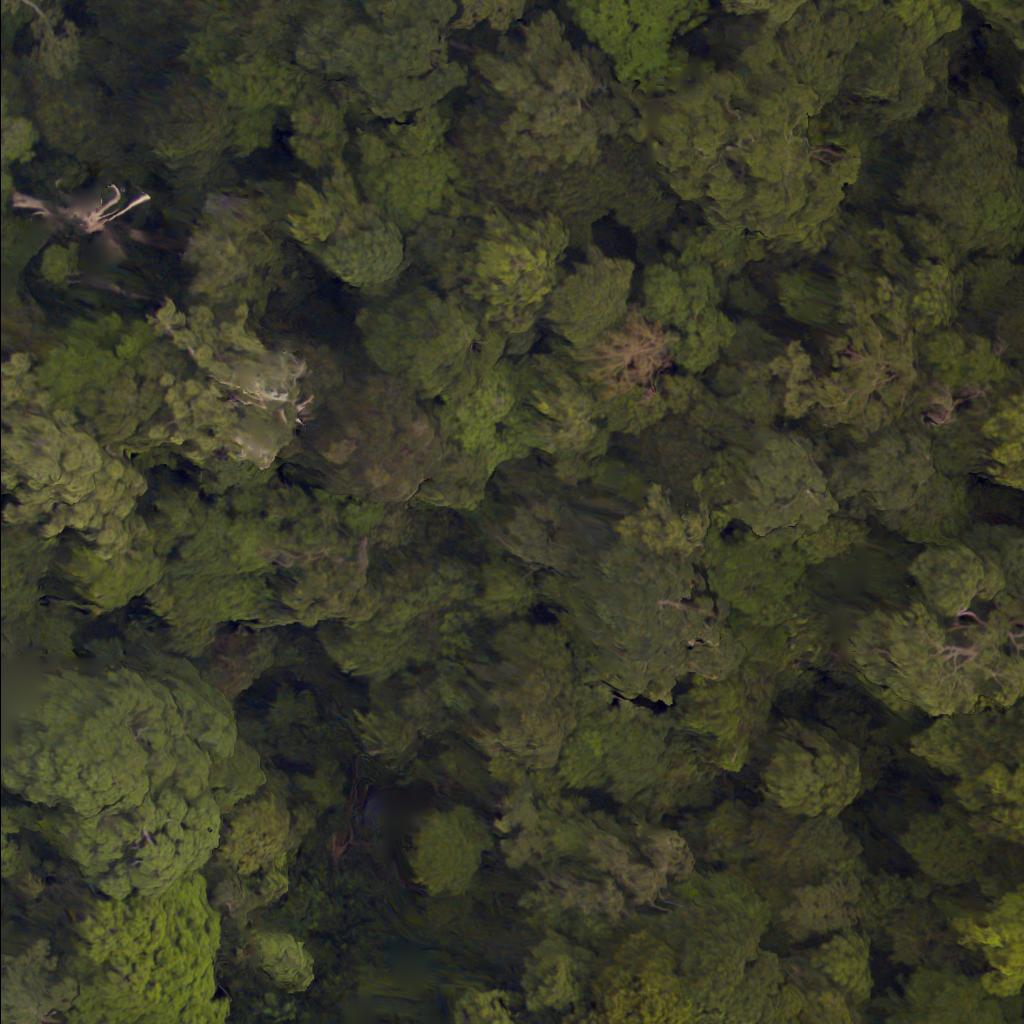crown: (0, 658, 239, 901), (648, 33, 860, 239), (597, 536, 742, 705), (64, 875, 229, 1023), (771, 293, 920, 441), (295, 0, 468, 118), (352, 289, 508, 399), (893, 94, 1017, 221), (459, 208, 571, 338), (728, 594, 836, 707), (669, 920, 782, 1023), (845, 14, 950, 122), (821, 431, 934, 527), (757, 717, 863, 819), (734, 428, 830, 532), (697, 525, 807, 613), (608, 413, 718, 501), (595, 826, 695, 922), (779, 0, 868, 104), (681, 671, 776, 765), (744, 809, 856, 886), (949, 882, 1023, 996), (598, 0, 705, 77), (405, 806, 494, 898), (220, 793, 295, 893), (237, 920, 327, 1001), (910, 702, 1023, 766), (598, 305, 678, 393), (593, 705, 667, 798), (775, 860, 861, 936), (887, 969, 1007, 1023), (903, 809, 984, 887), (0, 939, 69, 1023), (641, 749, 722, 818), (677, 796, 759, 864), (638, 265, 714, 333), (963, 762, 1023, 848), (803, 926, 871, 1000), (209, 735, 265, 814), (981, 390, 1023, 490), (980, 275, 1023, 365), (678, 302, 734, 370), (892, 0, 963, 45), (773, 986, 856, 1023), (454, 0, 534, 35), (722, 0, 807, 26), (1017, 846, 1023, 868)
